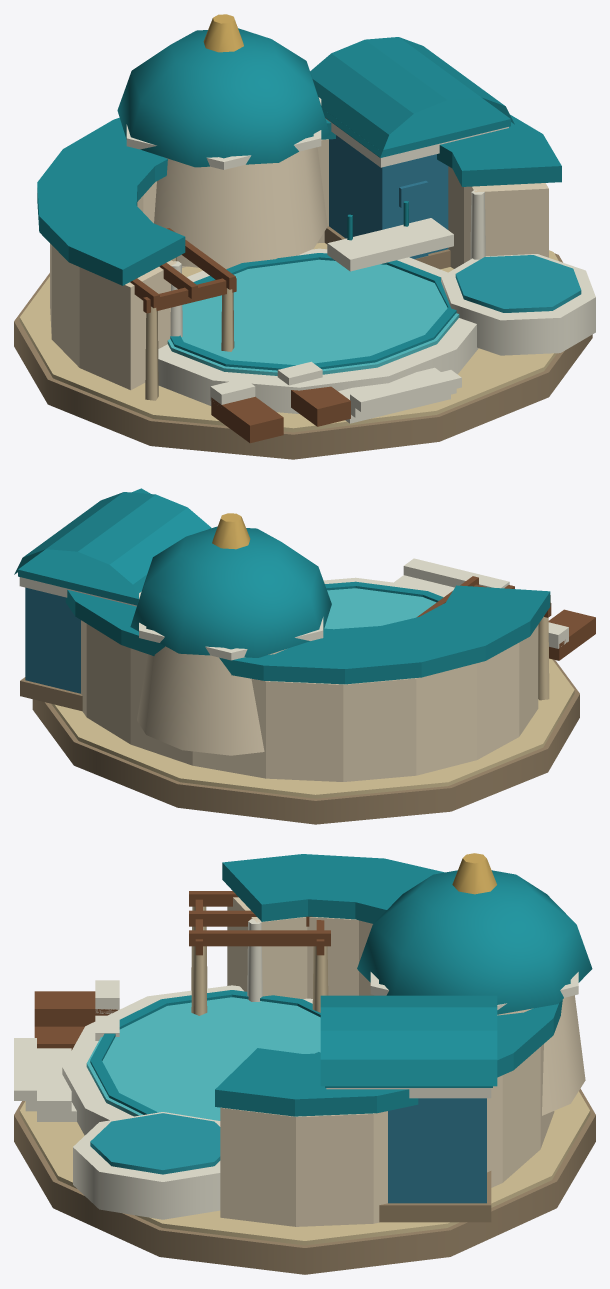
The model's file is recovery-center-lv4.glb.
The picture shows the model from 3 angles, top to bottom: view 1: azimuth 30°, elevation 25°; view 2: azimuth 150°, elevation 25°; view 3: azimuth 270°, elevation 25°; orthographic projection. The views are drawn at different scales.
Visible parts, largest first — view 1: water_pool, crescent_roof_aqua, recovery_dome_aqua, crescent_bathhouse_cream, foundation_stoneDark, recovery_pavilion_cream, rehabilitation_roof_aqua, foundation_sand, pool_terrace_white, rehabilitation_hall_glass, raised_pool_white, side_water_water (+14 smaller); view 2: crescent_bathhouse_cream, crescent_roof_aqua, recovery_dome_aqua, foundation_stoneDark, foundation_sand, recovery_pavilion_cream, rehabilitation_roof_aqua, rehabilitation_hall_glass, rehabilitation_hall_roof_aqua, water_pool, pool_steps_white, sun_loungers_wood (+8 smaller); view 3: crescent_bathhouse_cream, recovery_dome_aqua, crescent_roof_aqua, foundation_stoneDark, water_pool, rehabilitation_roof_aqua, foundation_sand, rehabilitation_hall_glass, raised_pool_white, side_water_water, recovery_pergola_wood, pool_steps_white (+11 smaller).
Boxes of the visible parts, left/top/right/bottom form: water_pool: left=167, top=259, right=459, bottom=375; crescent_roof_aqua: left=37, top=114, right=561, bottom=285; recovery_dome_aqua: left=117, top=28, right=330, bottom=167; crescent_bathhouse_cream: left=50, top=139, right=548, bottom=390; foundation_stoneDark: left=14, top=253, right=592, bottom=459; recovery_pavilion_cream: left=154, top=147, right=327, bottom=269; rehabilitation_roof_aqua: left=310, top=37, right=514, bottom=157; foundation_sand: left=19, top=243, right=558, bottom=432; pool_terrace_white: left=158, top=248, right=478, bottom=413; rehabilitation_hall_glass: left=329, top=135, right=448, bottom=253; raised_pool_white: left=441, top=254, right=595, bottom=355; side_water_water: left=455, top=255, right=581, bottom=312; crescent_bathhouse_cream: left=81, top=620, right=538, bottom=781; crescent_roof_aqua: left=65, top=488, right=550, bottom=684; recovery_dome_aqua: left=130, top=526, right=331, bottom=657; foundation_stoneDark: left=32, top=659, right=579, bottom=824; foundation_sand: left=51, top=658, right=574, bottom=798; recovery_pavilion_cream: left=137, top=646, right=285, bottom=755; rehabilitation_roof_aqua: left=14, top=492, right=211, bottom=598; rehabilitation_hall_glass: left=25, top=587, right=80, bottom=693; rehabilitation_hall_roof_aqua: left=18, top=549, right=138, bottom=605; water_pool: left=324, top=588, right=436, bottom=629; pool_steps_white: left=394, top=558, right=509, bottom=592; sun_loungers_wood: left=548, top=609, right=595, bottom=660; crescent_bathhouse_cream: left=220, top=897, right=554, bottom=1226; recovery_dome_aqua: left=357, top=870, right=592, bottom=1014; crescent_roof_aqua: left=215, top=854, right=562, bottom=1116; foundation_stoneDark: left=14, top=1088, right=595, bottom=1274; water_pool: left=86, top=997, right=320, bottom=1120; rehabilitation_roof_aqua: left=320, top=995, right=497, bottom=1086; foundation_sand: left=19, top=1091, right=590, bottom=1245; rehabilitation_hall_glass: left=388, top=1098, right=486, bottom=1203; raised_pool_white: left=73, top=1112, right=220, bottom=1219; side_water_water: left=90, top=1113, right=220, bottom=1174; recovery_pergola_wood: left=189, top=891, right=330, bottom=955; pool_steps_white: left=14, top=1038, right=76, bottom=1121.
Size of the model in its own units: 1 by 0.4959 by 0.9231.
